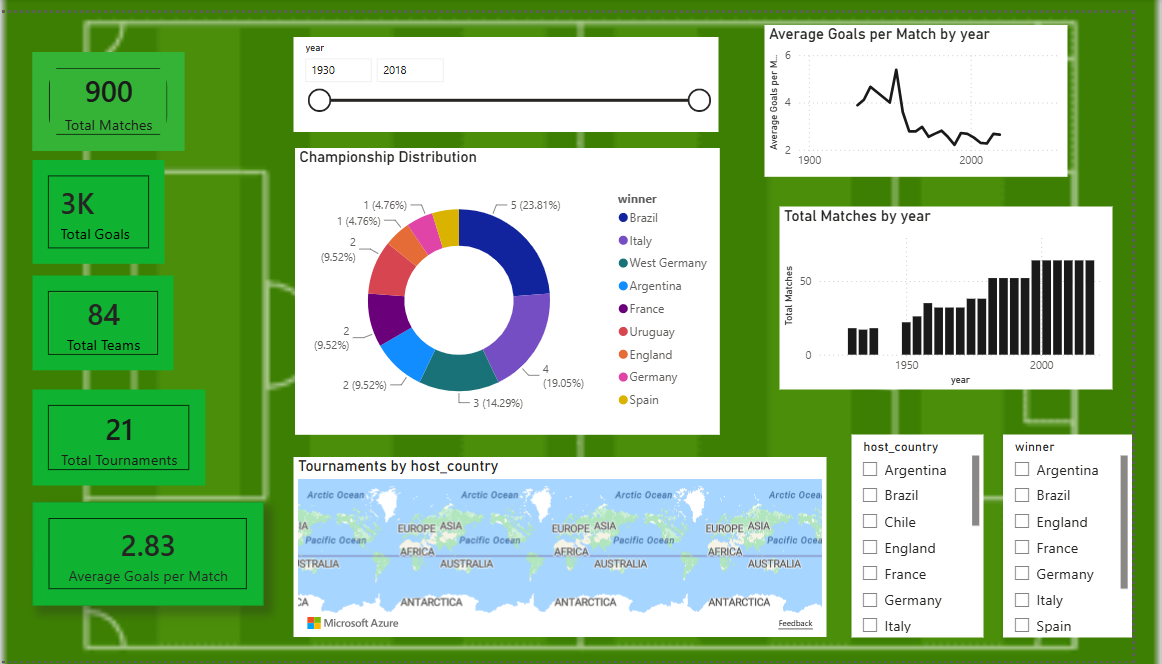

What the dashboard file says about the page in this screenshot:
{"tool":"powerbi","page":{"name":"Executive Dashboard","canvas":[1280,720],"ordinal":0},"visuals":[{"type":"cardVisual","fields":{"Data":["DAX_Measures.Total Matches"]},"box":[58.3,43.3,168.3,110],"z":0},{"type":"cardVisual","fields":{"Data":["DAX_Measures.Total Goals"]},"box":[58.3,163.3,146.7,115],"z":1000},{"type":"cardVisual","fields":{"Data":["DAX_Measures.Average Goals per Match"]},"box":[58.3,543.3,256.7,115],"z":2000},{"type":"cardVisual","fields":{"Data":["DAX_Measures.Total Tournaments"]},"box":[58.3,418.3,191.7,106.7],"z":4000},{"type":"cardVisual","fields":{"Data":["DAX_Measures.Total Teams"]},"box":[58.3,291.7,156.7,105],"z":5000},{"type":"slicer","fields":{"Values":["tournaments.host_country"]},"box":[968.3,468.3,146.7,225],"z":6000},{"type":"slicer","fields":{"Values":["tournaments.year"]},"box":[348.3,26.7,471.7,105],"z":7000},{"type":"slicer","fields":{"Values":["tournaments.winner"]},"box":[1136.7,468.3,143.3,225],"z":8000},{"type":"clusteredColumnChart","fields":{"Category":["tournaments.year"],"Y":["DAX_Measures.Total Matches"]},"box":[888.3,215,370,203.3],"z":9000},{"type":"donutChart","title":"Championship Distribution","fields":{"Category":["tournaments.winner"],"Y":["DAX_Measures.Total Tournaments"]},"box":[350,150,471.7,318.3],"z":10000},{"type":"azureMap","title":"Tournaments by host_country","fields":{"Category":["tournaments.host_country"],"Size":["DAX_Measures.Total Tournaments"]},"box":[348.3,493.3,591.7,200],"z":11000},{"type":"lineChart","fields":{"Category":["tournaments.year"],"Y":["DAX_Measures.Average Goals per Match"]},"box":[871.7,13.3,336.7,168.3],"z":12000}]}

Visuals, with their boxes in screenshot pixels (x1, y1, x2, y2), scaled from the page's 1280x720 canvas onto the 1162x664 screenshot:
cardVisual - DAX_Measures.Total Matches: region(53, 40, 206, 141)
cardVisual - DAX_Measures.Total Goals: region(53, 151, 186, 257)
cardVisual - DAX_Measures.Average Goals per Match: region(53, 501, 286, 607)
cardVisual - DAX_Measures.Total Tournaments: region(53, 386, 227, 484)
cardVisual - DAX_Measures.Total Teams: region(53, 269, 195, 366)
slicer - tournaments.host_country: region(879, 432, 1012, 639)
slicer - tournaments.year: region(316, 25, 744, 121)
slicer - tournaments.winner: region(1032, 432, 1161, 639)
clusteredColumnChart - tournaments.year x DAX_Measures.Total Matches: region(806, 198, 1142, 386)
"Championship Distribution" donutChart: region(318, 138, 746, 432)
"Tournaments by host_country" azureMap: region(316, 455, 853, 639)
lineChart - tournaments.year x DAX_Measures.Average Goals per Match: region(791, 12, 1097, 167)
